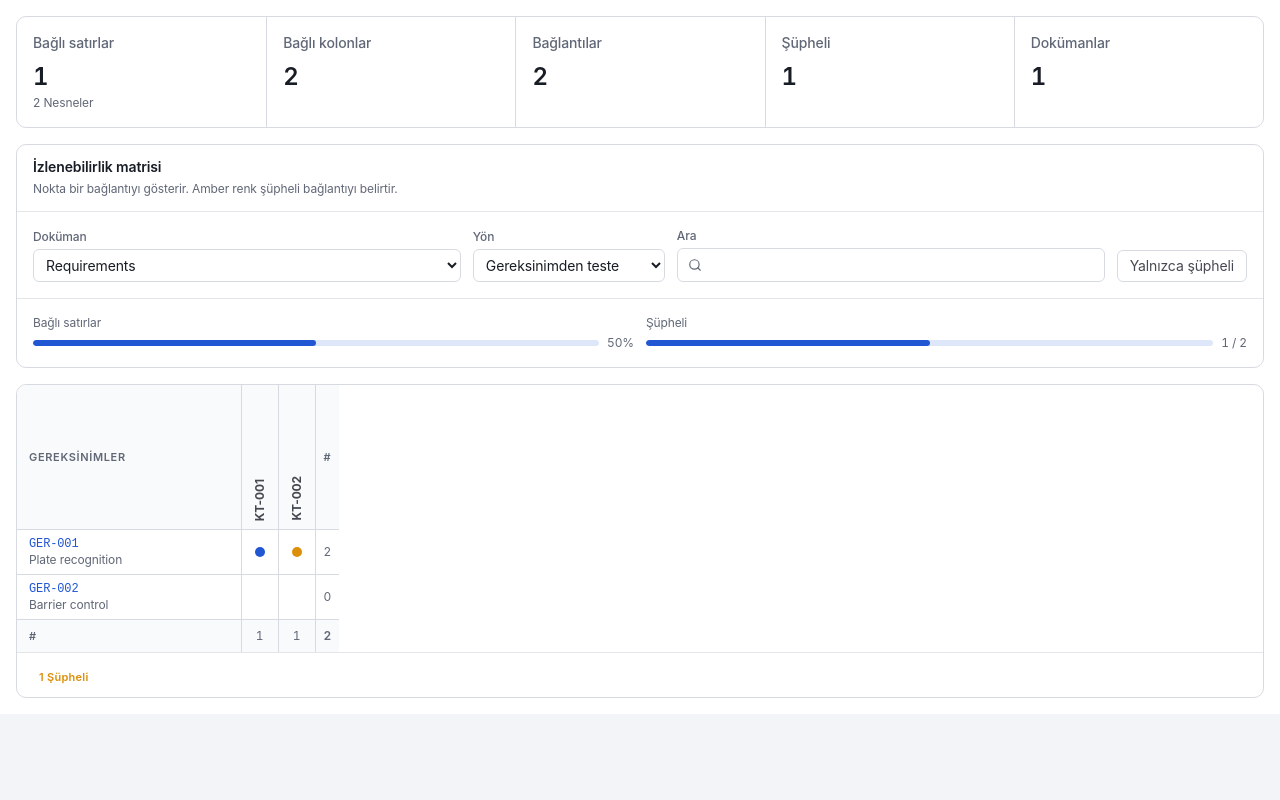
TraceabilityMatrixPage › requests the reverse direction when the selector changes
Expected: the element with test id "matrix-grid" is shown, left=16, top=384, right=1264, bottom=698
Select "Testten gereksinime" in the dropdown with test id "matrix-direction". click: coordinates (569, 266)
box: left=473, top=249, right=665, bottom=282
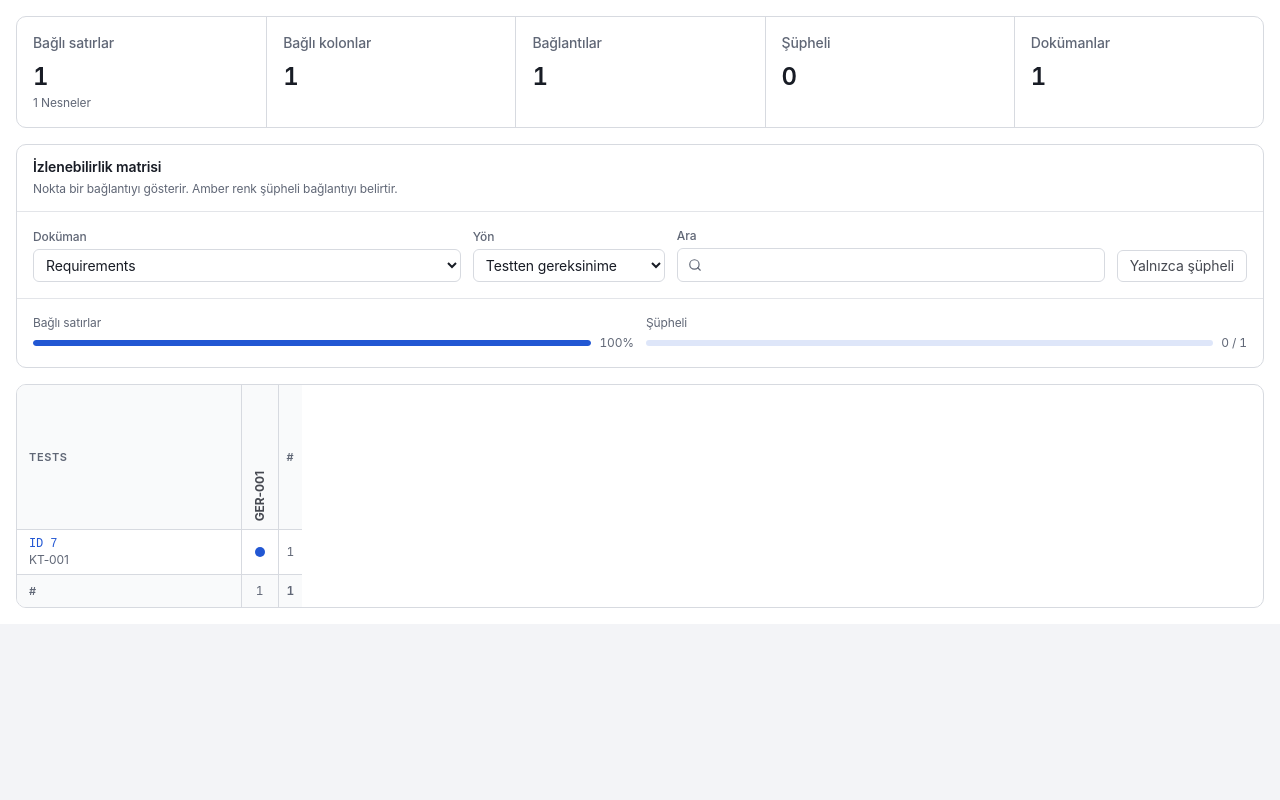
Result: the row with test id "matrix-row-test-1" shows "ID 7" at left=29, top=536, right=228, bottom=568
